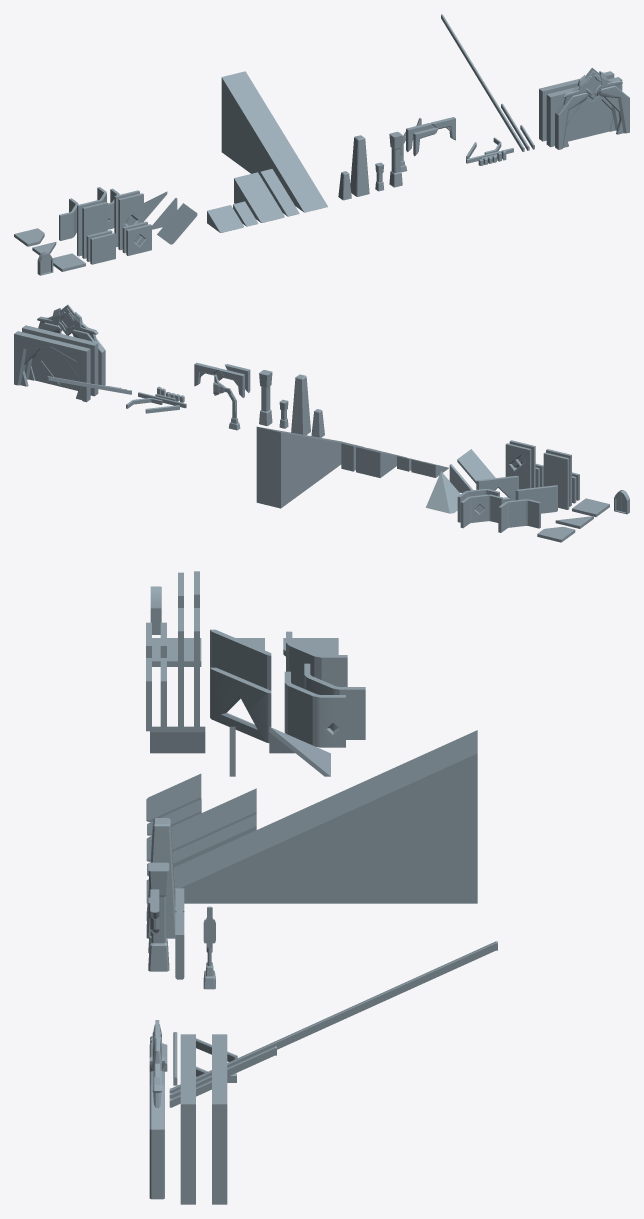
The model's file is Canal_Modular_Assets.fbx.
3 views of the same model, one above another, from view 1: azimuth 30°, elevation 25°; view 2: azimuth 150°, elevation 25°; view 3: azimuth 270°, elevation 25° (orthographic). The views are drawn at different scales.
Visible parts, largest first — view 1: Ramp_XL, Gate, Ramp_Large, ActualGate, Pillar_Large, Gateway, Wall_Large_DoorWay, Wall_Large_Window, Roof, Gate_Decor, Ramp_Thin_Large, Gate_Indoor_Broken (+12 smaller); view 2: Ramp_XL, Gate_Indoor_Broken, Gateway, Wall_Corner, Wall_Large, Wall_Corner_Window, ActualGate, Ramp_Large, Pillar_Large, Wall_Large_2Window, Roof_Corner, Gate_Decor (+15 smaller); view 3: Ramp_XL, Wall_Corner_2Window, Wall_Diagonal_Window, Gateway, Gate_Indoor_Broken, Railing_Ramp_XL, Ramp_Large, Wall_Diagonal, Gate, Wall_Corner, Wall_Corner_Window, Pillar_Large (+7 smaller).
Part boxes in pixels (x1,y1,x2,y2): Ramp_XL: [221, 71, 327, 212]; Gate: [555, 68, 629, 149]; Ramp_Large: [234, 172, 284, 222]; ActualGate: [565, 95, 612, 141]; Pillar_Large: [350, 135, 369, 196]; Gateway: [546, 77, 622, 147]; Wall_Large_DoorWay: [82, 202, 107, 258]; Wall_Large_Window: [118, 193, 143, 250]; Roof: [157, 203, 197, 244]; Gate_Decor: [562, 71, 622, 104]; Ramp_Thin_Large: [260, 169, 299, 216]; Gate_Indoor_Broken: [539, 71, 614, 141]; Ramp_XL: [256, 426, 363, 508]; Gate_Indoor_Broken: [14, 331, 90, 402]; Gateway: [22, 325, 98, 396]; Wall_Corner: [498, 499, 540, 532]; Wall_Large: [543, 452, 569, 509]; Wall_Corner_Window: [460, 494, 502, 528]; ActualGate: [31, 354, 79, 390]; Ramp_Large: [356, 447, 406, 477]; Pillar_Large: [291, 374, 310, 435]; Wall_Large_2Window: [505, 443, 531, 489]; Roof_Corner: [426, 471, 460, 513]; Gate_Decor: [37, 307, 98, 341]; Ramp_XL: [146, 730, 477, 903]; Wall_Corner_2Window: [284, 671, 345, 747]; Wall_Diagonal_Window: [210, 667, 271, 742]; Gateway: [180, 1034, 195, 1204]; Gate_Indoor_Broken: [212, 1034, 227, 1204]; Railing_Ramp_XL: [169, 941, 497, 1092]; Ramp_Large: [146, 788, 256, 861]; Wall_Diagonal: [210, 629, 271, 690]; Gate: [149, 1020, 164, 1199]; Wall_Corner: [286, 631, 347, 688]; Wall_Corner_Window: [304, 663, 365, 739]; Pillar_Large: [146, 818, 175, 938].
Size of the model in its own units: 98.56 by 13.11 by 25.47.
